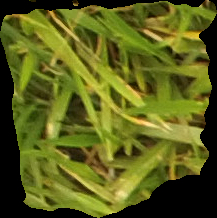grass: (1, 1, 216, 217)
